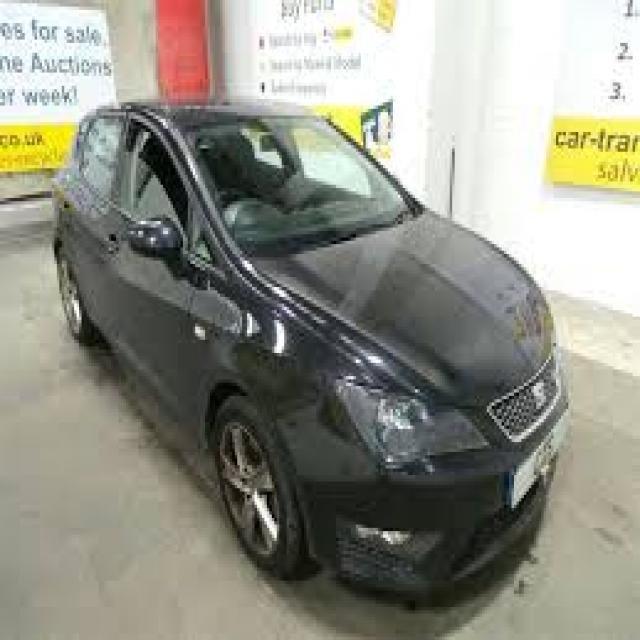minor: (334, 497, 482, 592)
